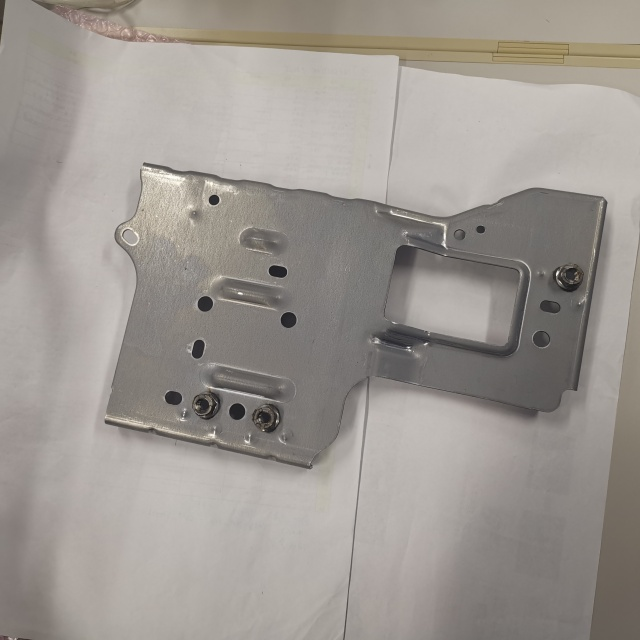dog: (190, 388, 223, 422), (250, 402, 283, 435), (551, 262, 586, 293)
